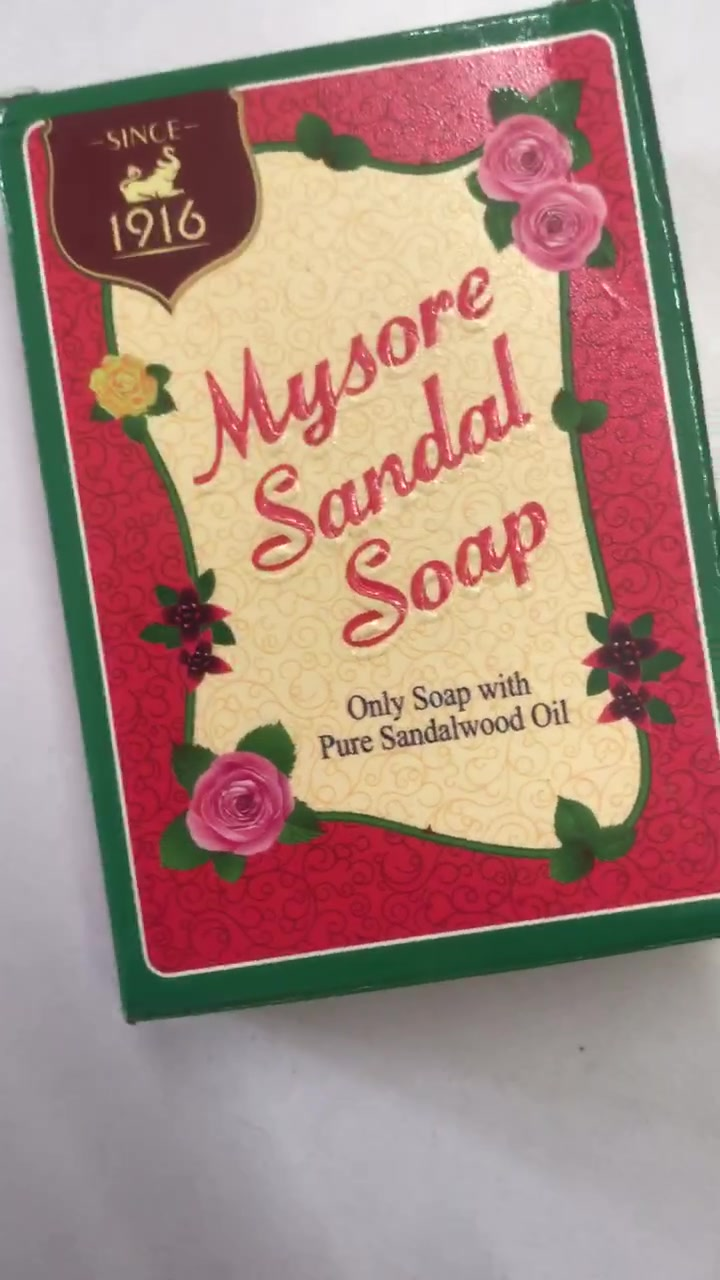mysore sandal soap: (9, 14, 719, 1028)
